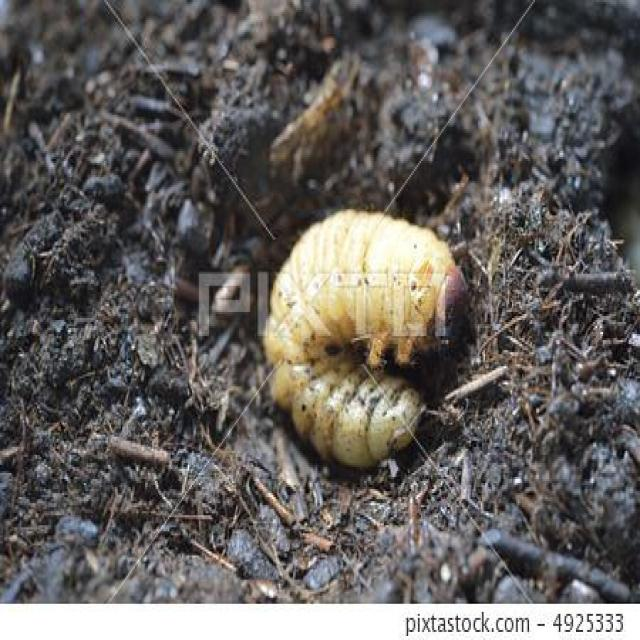Grub-Adult-: (228, 182, 487, 493)
